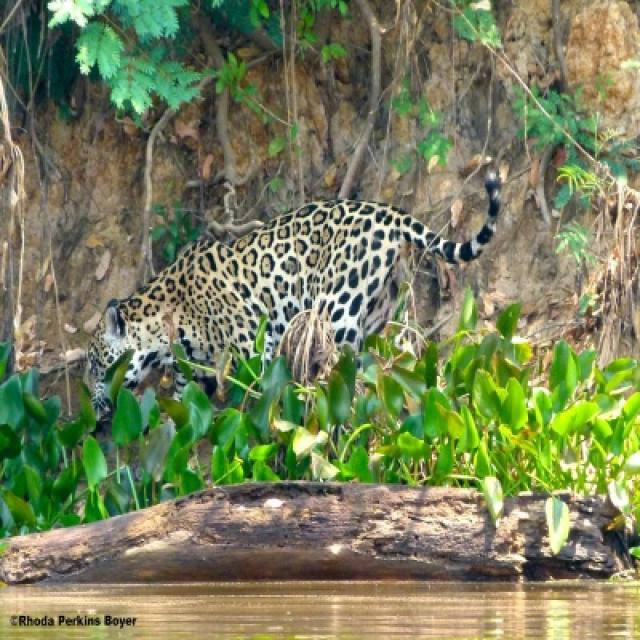Jaguar: (102, 202, 485, 370)
